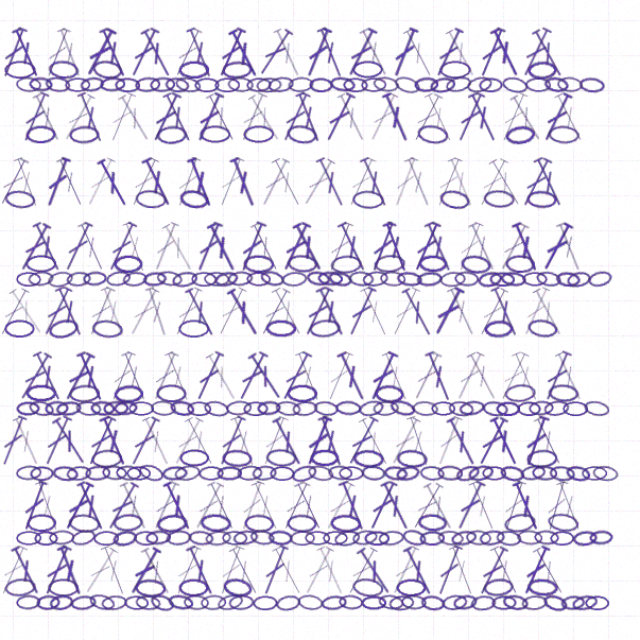chain: (65, 312, 97, 335), (434, 191, 465, 213), (495, 496, 527, 517), (290, 130, 321, 151), (413, 130, 444, 151), (536, 496, 567, 517), (352, 557, 383, 578), (107, 69, 137, 90), (189, 191, 219, 212), (517, 313, 547, 334), (230, 557, 260, 578), (454, 253, 485, 273), (85, 497, 116, 517), (496, 131, 526, 151), (25, 192, 55, 212), (107, 314, 137, 334), (168, 497, 198, 517), (66, 70, 96, 89), (148, 192, 178, 211), (476, 192, 506, 211), (291, 253, 321, 272), (373, 253, 403, 272), (312, 314, 342, 333), (496, 375, 526, 394), (537, 375, 567, 394), (271, 436, 301, 455), (209, 497, 239, 516), (25, 558, 55, 577), (517, 558, 547, 577), (150, 449, 177, 470), (127, 497, 156, 516), (414, 497, 443, 516), (476, 558, 505, 577), (391, 84, 418, 104), (168, 132, 198, 150), (537, 132, 567, 150), (353, 193, 383, 211), (332, 254, 362, 272), (353, 437, 383, 455), (394, 437, 424, 455), (294, 450, 321, 470), (230, 71, 259, 89), (86, 132, 115, 150), (517, 193, 546, 211), (86, 376, 115, 394), (107, 437, 136, 455), (230, 437, 259, 455), (517, 437, 546, 455), (291, 498, 320, 516), (332, 498, 361, 516), (148, 559, 177, 577), (449, 450, 475, 470), (161, 572, 187, 592), (531, 572, 557, 592), (25, 71, 55, 88), (435, 71, 465, 88), (518, 71, 546, 89), (477, 315, 505, 333), (128, 376, 156, 394), (374, 376, 402, 394), (251, 498, 279, 516), (440, 84, 466, 103), (460, 84, 486, 103), (358, 389, 384, 408), (387, 389, 413, 408), (461, 450, 487, 469), (104, 572, 130, 591), (225, 572, 251, 591), (189, 71, 218, 88), (353, 71, 382, 88), (45, 132, 74, 149), (209, 132, 238, 149), (250, 132, 279, 149), (45, 254, 74, 271), (250, 254, 279, 271), (25, 315, 54, 332), (189, 315, 218, 332), (271, 315, 300, 332), (45, 376, 74, 393), (168, 376, 197, 393), (291, 376, 320, 393), (66, 559, 95, 576), (189, 559, 218, 576), (394, 559, 423, 576), (128, 254, 156, 271), (415, 254, 443, 271), (497, 254, 525, 271), (190, 437, 218, 454), (313, 437, 341, 454), (46, 498, 74, 515), (265, 267, 290, 286), (574, 267, 599, 286), (87, 511, 112, 530), (399, 511, 424, 530), (185, 85, 211, 103), (425, 85, 451, 103), (493, 85, 519, 103), (65, 268, 91, 286), (182, 268, 208, 286), (525, 268, 551, 286), (47, 390, 73, 408), (212, 390, 238, 408), (570, 390, 596, 408), (310, 451, 336, 469), (335, 512, 361, 530), (445, 512, 471, 530), (559, 573, 585, 591), (222, 268, 247, 286), (329, 268, 354, 286), (470, 268, 495, 286), (554, 268, 579, 286), (393, 451, 418, 469), (491, 451, 516, 469), (553, 451, 578, 469), (126, 512, 151, 530), (280, 573, 305, 591), (352, 512, 378, 529), (178, 573, 204, 590), (63, 85, 88, 102), (273, 85, 298, 102), (331, 85, 356, 102), (372, 85, 397, 102), (120, 268, 145, 285), (168, 268, 193, 285), (362, 268, 387, 285), (180, 390, 205, 407), (453, 390, 478, 407), (533, 390, 558, 407), (185, 451, 210, 468), (511, 451, 536, 468), (240, 512, 265, 529), (472, 512, 497, 529), (301, 573, 326, 590), (377, 573, 402, 590), (437, 573, 462, 590), (447, 573, 472, 590), (494, 573, 519, 590), (96, 85, 120, 102), (533, 85, 557, 102), (309, 268, 333, 285), (256, 512, 280, 529), (67, 573, 91, 590), (262, 86, 287, 102), (566, 86, 591, 102), (286, 269, 311, 285), (394, 269, 419, 285), (413, 269, 438, 285), (435, 269, 460, 285), (492, 269, 517, 285), (73, 391, 98, 407), (92, 391, 117, 407), (280, 391, 305, 407), (296, 391, 321, 407), (409, 391, 434, 407), (443, 391, 468, 407), (475, 391, 500, 407), (70, 452, 95, 468), (83, 452, 108, 468), (173, 452, 198, 468), (538, 452, 563, 468), (579, 452, 604, 468), (198, 513, 223, 529), (214, 513, 239, 529), (377, 513, 402, 529), (433, 513, 458, 529), (488, 513, 513, 529), (87, 574, 112, 590), (116, 574, 141, 590), (148, 574, 173, 590), (323, 574, 348, 590), (387, 574, 412, 590), (464, 574, 489, 590), (512, 574, 537, 590), (176, 86, 200, 102), (83, 269, 107, 285), (136, 269, 160, 285), (155, 269, 179, 285), (544, 269, 568, 285), (316, 391, 340, 407), (382, 452, 406, 468), (416, 452, 440, 468), (560, 513, 584, 529), (417, 574, 441, 590), (549, 574, 573, 590), (235, 86, 260, 101), (292, 86, 317, 101), (47, 269, 72, 284), (235, 269, 260, 284), (349, 269, 374, 284), (372, 391, 397, 406), (244, 452, 269, 467), (177, 513, 202, 528), (236, 574, 261, 589), (36, 86, 60, 101), (115, 86, 139, 101), (148, 86, 172, 101), (162, 86, 186, 101), (546, 86, 570, 101), (320, 269, 344, 284), (379, 269, 403, 284), (118, 391, 142, 406), (163, 391, 187, 406), (234, 391, 258, 406), (337, 391, 361, 406), (519, 391, 543, 406), (36, 452, 60, 467), (101, 452, 125, 467), (117, 452, 141, 467), (130, 452, 154, 467), (258, 452, 282, 467), (361, 452, 385, 467), (433, 452, 457, 467), (522, 452, 546, 467), (67, 513, 91, 528), (158, 513, 182, 528), (273, 513, 297, 528), (460, 513, 484, 528), (508, 513, 532, 528), (524, 513, 548, 528), (194, 574, 218, 589), (210, 574, 234, 589), (399, 574, 423, 589), (48, 86, 71, 101), (411, 86, 434, 101), (99, 269, 122, 284), (449, 269, 472, 284), (63, 391, 86, 406), (106, 391, 129, 406), (128, 391, 151, 406), (263, 391, 286, 406), (330, 452, 353, 467), (576, 513, 599, 528), (36, 574, 59, 589), (55, 574, 78, 589), (340, 574, 363, 589), (82, 87, 106, 101), (129, 87, 153, 101), (204, 87, 228, 101), (223, 87, 247, 101), (253, 87, 277, 101), (344, 87, 368, 101), (361, 87, 385, 101), (516, 87, 540, 101), (36, 270, 60, 284), (201, 270, 225, 284), (213, 270, 237, 284), (482, 270, 506, 284), (513, 270, 537, 284), (142, 392, 166, 406), (250, 392, 274, 406), (551, 392, 575, 406), (208, 453, 232, 467), (225, 453, 249, 467), (275, 453, 299, 467), (340, 453, 364, 467), (569, 453, 593, 467), (36, 514, 60, 528), (109, 514, 133, 528), (230, 514, 254, 528), (294, 514, 318, 528), (308, 514, 332, 528), (325, 514, 349, 528), (364, 514, 388, 528), (416, 514, 440, 528), (259, 575, 283, 589), (361, 575, 385, 589), (484, 575, 508, 589), (312, 87, 335, 101), (472, 87, 495, 101), (253, 270, 276, 284), (36, 392, 59, 406), (197, 392, 220, 406), (427, 392, 450, 406), (488, 392, 511, 406), (508, 392, 531, 406), (49, 453, 72, 467), (140, 453, 163, 467), (475, 453, 498, 467), (53, 514, 76, 528), (147, 514, 170, 528), (539, 514, 562, 528), (138, 575, 161, 589), (572, 575, 595, 589)
double: (354, 527, 394, 577), (260, 39, 300, 88), (26, 283, 66, 332), (251, 344, 291, 393), (251, 100, 290, 150), (231, 283, 270, 333), (96, 527, 135, 577), (273, 282, 311, 333), (343, 404, 381, 455), (273, 526, 311, 577), (67, 405, 106, 454), (76, 100, 114, 150), (129, 100, 167, 150), (498, 100, 536, 150), (302, 161, 340, 211), (478, 161, 516, 211), (170, 222, 208, 272), (35, 344, 73, 394), (211, 344, 249, 394), (117, 466, 155, 516), (404, 466, 442, 516), (138, 527, 176, 577), (519, 527, 557, 577), (97, 38, 134, 89), (343, 38, 380, 89), (355, 38, 392, 89), (211, 99, 248, 150), (322, 99, 359, 150), (539, 99, 576, 150), (15, 160, 52, 211), (273, 160, 310, 211), (293, 221, 330, 272), (527, 221, 564, 272), (425, 282, 462, 333), (240, 343, 277, 394), (281, 343, 318, 394), (457, 343, 494, 394), (191, 404, 228, 455), (150, 39, 187, 89), (437, 39, 474, 89), (519, 39, 556, 89), (109, 161, 146, 211), (35, 222, 72, 272), (15, 283, 52, 333), (138, 283, 175, 333), (261, 283, 298, 333), (396, 283, 433, 333), (519, 283, 556, 333), (355, 405, 392, 455), (384, 405, 421, 455), (199, 466, 236, 516), (416, 466, 453, 516), (150, 527, 187, 577), (343, 527, 380, 577), (479, 38, 515, 89), (508, 38, 544, 89), (159, 99, 195, 150), (364, 99, 400, 150), (458, 99, 494, 150), (151, 160, 187, 211), (315, 160, 351, 211), (520, 160, 556, 211), (253, 221, 289, 272), (335, 221, 371, 272), (221, 282, 257, 333), (315, 282, 351, 333), (356, 282, 392, 333), (438, 282, 474, 333), (48, 343, 84, 394), (405, 343, 441, 394), (487, 343, 523, 394), (98, 404, 134, 455), (294, 465, 330, 516), (446, 465, 482, 516), (233, 39, 269, 89), (397, 39, 433, 89), (405, 100, 441, 150), (262, 161, 298, 211), (467, 161, 503, 211), (508, 161, 544, 211), (212, 222, 248, 272), (487, 222, 523, 272), (192, 283, 228, 333), (467, 283, 503, 333), (77, 344, 113, 394), (139, 405, 175, 455), (180, 405, 216, 455), (274, 405, 310, 455), (438, 405, 474, 455), (467, 405, 503, 455), (77, 466, 113, 516), (323, 466, 359, 516), (233, 527, 269, 577), (303, 527, 339, 577), (397, 527, 433, 577), (467, 527, 503, 577), (139, 38, 174, 89), (180, 38, 215, 89), (426, 38, 461, 89), (48, 99, 83, 150), (171, 99, 206, 150), (282, 99, 317, 150), (335, 99, 370, 150), (417, 99, 452, 150), (528, 99, 563, 150), (98, 160, 133, 211), (139, 160, 174, 211), (344, 160, 379, 211), (48, 221, 83, 272), (77, 221, 112, 272), (118, 221, 153, 272), (282, 221, 317, 272), (417, 221, 452, 272), (458, 221, 493, 272), (57, 282, 92, 333), (69, 282, 104, 333), (180, 282, 215, 333), (303, 282, 338, 333), (344, 282, 379, 333), (385, 282, 420, 333), (335, 343, 370, 394), (364, 343, 399, 394), (446, 343, 481, 394), (499, 343, 534, 394), (540, 343, 575, 394), (151, 404, 186, 455), (479, 404, 514, 455), (520, 404, 555, 455), (130, 465, 165, 516), (171, 465, 206, 516), (212, 465, 247, 516), (282, 465, 317, 516), (364, 465, 399, 516), (376, 465, 411, 516), (16, 526, 51, 577), (28, 526, 63, 577), (57, 526, 92, 577), (385, 526, 420, 577), (479, 526, 514, 577), (29, 38, 63, 89), (111, 38, 145, 89), (222, 38, 256, 89), (275, 38, 309, 89), (37, 99, 71, 150), (119, 99, 153, 150), (201, 99, 235, 150), (242, 99, 276, 150), (377, 99, 411, 150), (447, 99, 481, 150), (488, 99, 522, 150), (70, 160, 104, 211), (357, 160, 391, 211), (398, 160, 432, 211), (90, 221, 124, 272), (406, 221, 440, 272), (99, 282, 133, 333), (480, 282, 514, 333), (509, 282, 543, 333), (201, 343, 235, 394), (529, 343, 563, 394), (29, 404, 63, 455), (58, 404, 92, 455), (111, 404, 145, 455), (222, 404, 256, 455), (90, 465, 124, 516), (160, 465, 194, 516), (254, 465, 288, 516), (336, 465, 370, 516), (500, 465, 534, 516), (193, 526, 227, 577), (316, 526, 350, 577), (509, 526, 543, 577), (193, 38, 226, 89), (304, 38, 337, 89), (316, 38, 349, 89), (386, 38, 419, 89), (468, 38, 501, 89), (90, 99, 123, 150), (222, 160, 255, 211), (234, 160, 267, 211), (427, 160, 460, 211), (439, 160, 472, 211), (201, 221, 234, 272), (242, 221, 275, 272), (447, 221, 480, 272), (500, 221, 533, 272), (541, 221, 574, 272), (90, 343, 123, 394), (131, 343, 164, 394), (160, 343, 193, 394), (172, 343, 205, 394), (295, 343, 328, 394), (324, 343, 357, 394), (377, 343, 410, 394), (418, 343, 451, 394), (17, 404, 50, 455), (234, 404, 267, 455), (263, 404, 296, 455), (459, 465, 492, 516), (541, 465, 574, 516), (181, 526, 214, 577), (222, 526, 255, 577), (18, 38, 50, 89), (59, 38, 91, 89), (71, 38, 103, 89), (296, 99, 328, 150), (30, 160, 62, 211), (59, 160, 91, 211), (182, 160, 214, 211), (194, 160, 226, 211), (387, 160, 419, 211), (132, 221, 164, 272), (161, 221, 193, 272), (325, 221, 357, 272), (366, 221, 398, 272), (378, 221, 410, 272), (112, 282, 144, 333), (120, 343, 152, 394), (305, 404, 337, 455), (317, 404, 349, 455), (428, 404, 460, 455), (510, 404, 542, 455), (71, 526, 103, 577), (112, 526, 144, 577), (264, 526, 296, 577), (428, 526, 460, 577), (440, 526, 472, 577), (38, 465, 69, 516), (50, 465, 81, 516), (243, 465, 274, 516), (154, 282, 184, 333), (400, 404, 430, 455), (490, 465, 520, 516), (531, 465, 560, 516)
